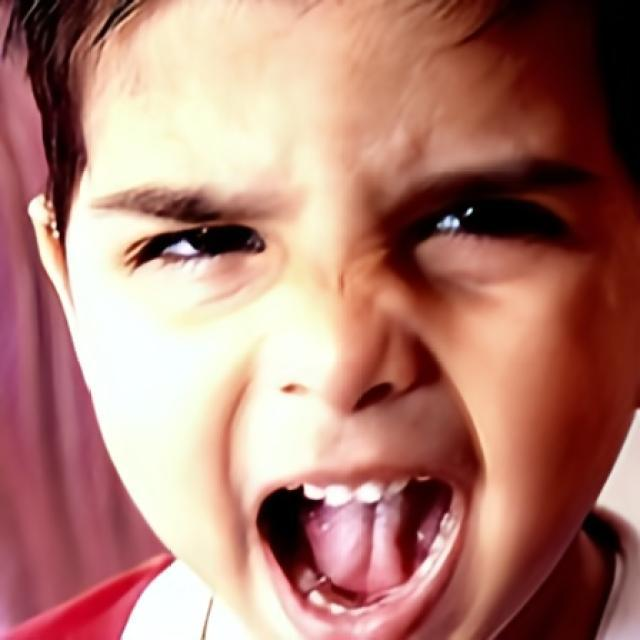anger: (63, 21, 640, 638)
